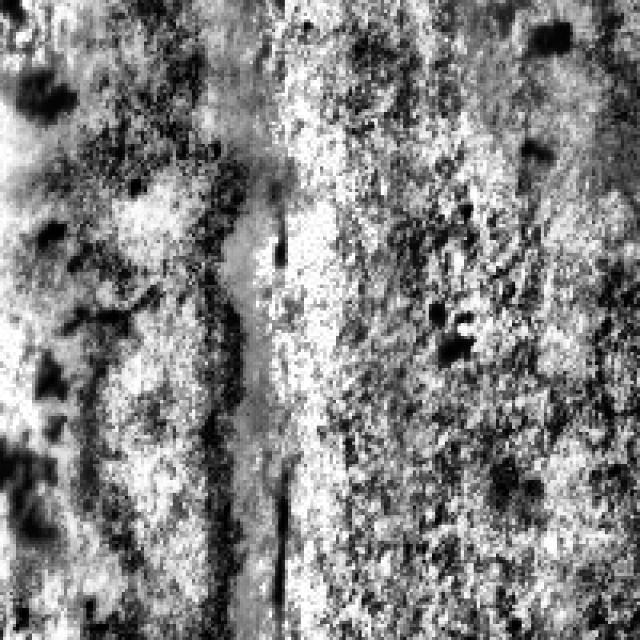Patches: (0, 339, 74, 547), (4, 51, 70, 125), (515, 10, 579, 68)
Scratches: (61, 0, 253, 630), (473, 0, 633, 166)
